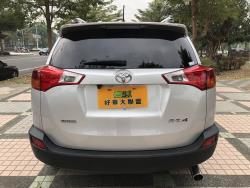toyota_rav4: (30, 22, 216, 165)
